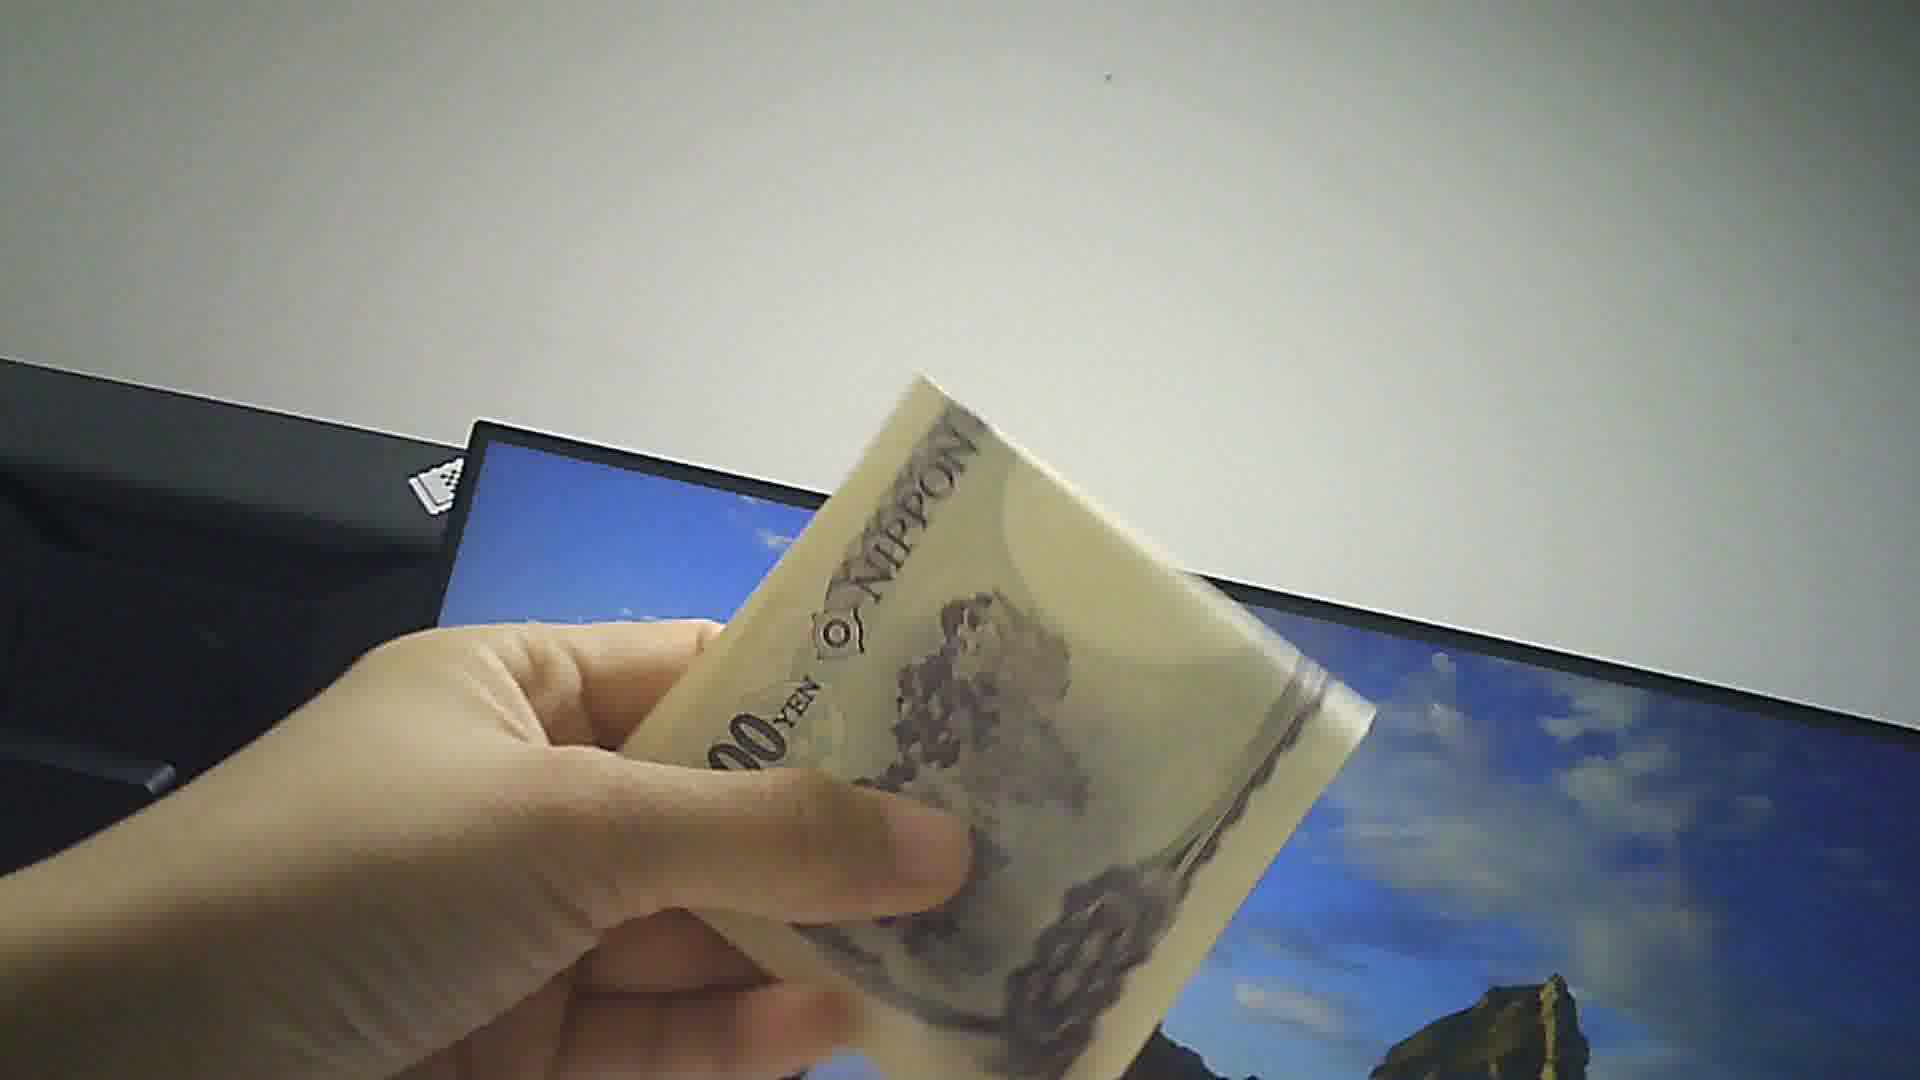5,000 Yen: (601, 359, 1385, 1069)
